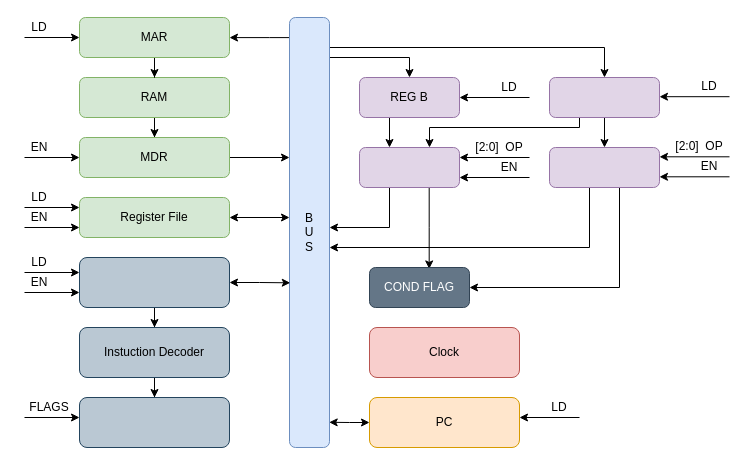
The diagram is 755 pixels wide and 465 high, and some of its shapes have lost their labels. Each missing label, with the centre of its shape:
"ALU" belongs at point 409,167.
"Control Word" belongs at point 154,422.
"IR" belongs at point 154,282.
"REG A" belongs at point 604,97.
"SHF" belongs at point 604,167.
